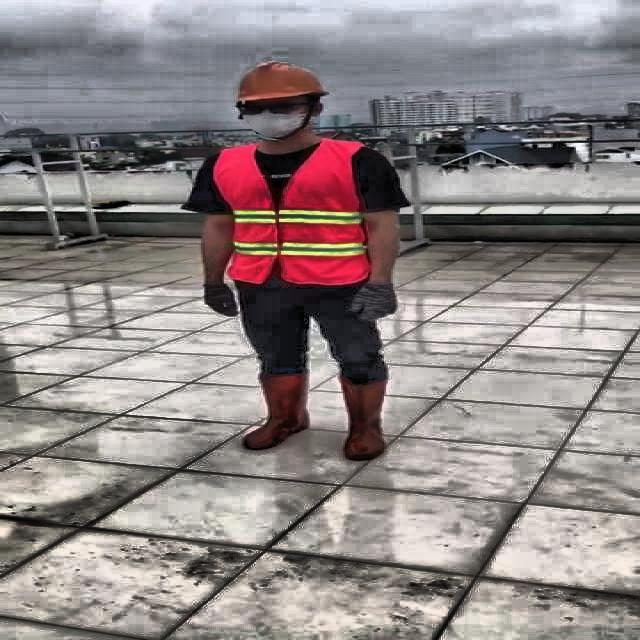safety_helmet: (228, 58, 330, 107)
safety_jacket: (210, 139, 377, 286)
